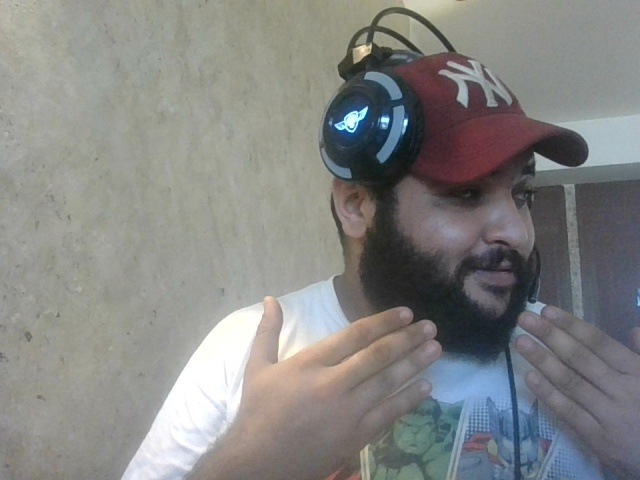thanks: (222, 290, 640, 467)
